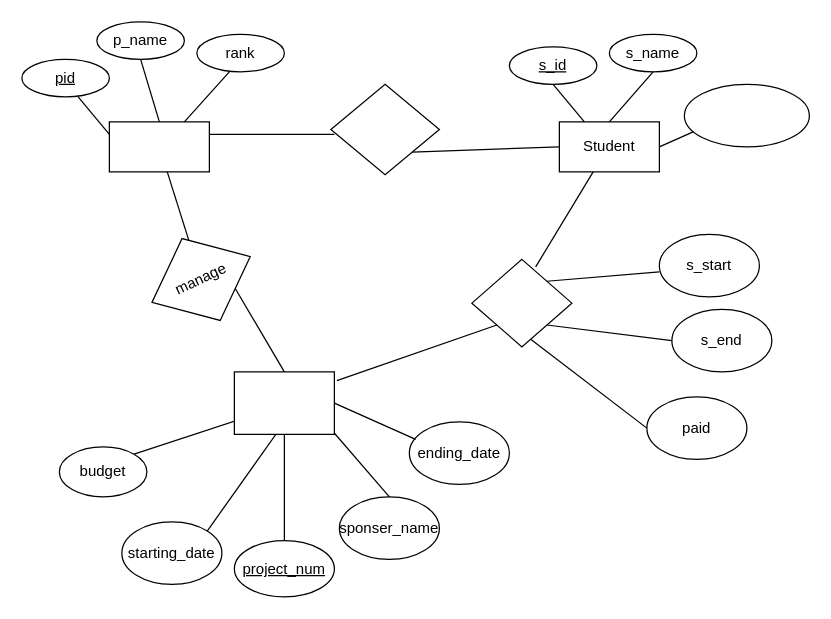
Some shapes in this 831 by 619 pixel diagram are drawn without their labels. Each missing label, with the centre of its shape:
"degree_program" goes at (746,115).
"Professor" goes at (158,146).
"Project" goes at (283,402).
"Record" goes at (521,302).
"supervise" goes at (384,129).
